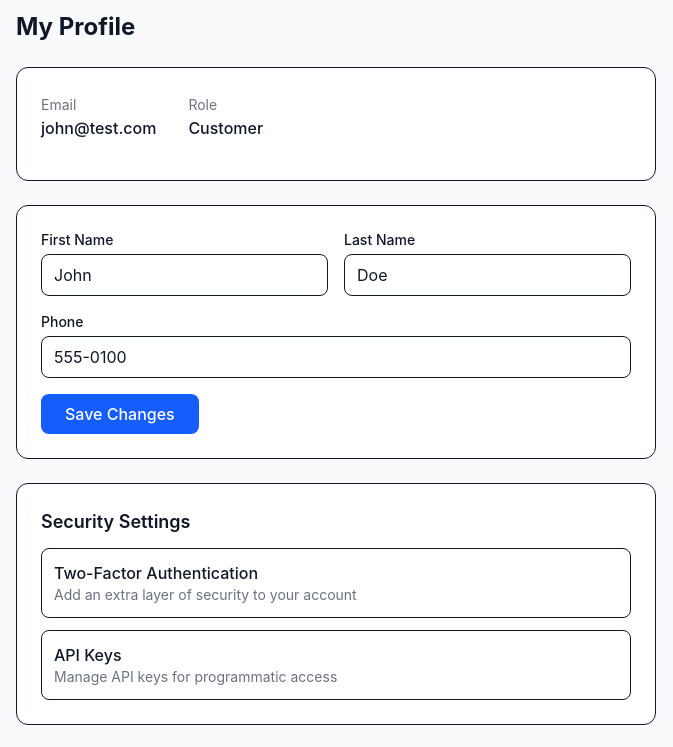
it: ProfilePage › should update profile on submit
Replace the text in the field labelled "First Name" with "Jane" at (184, 275), box [41,254,328,296]
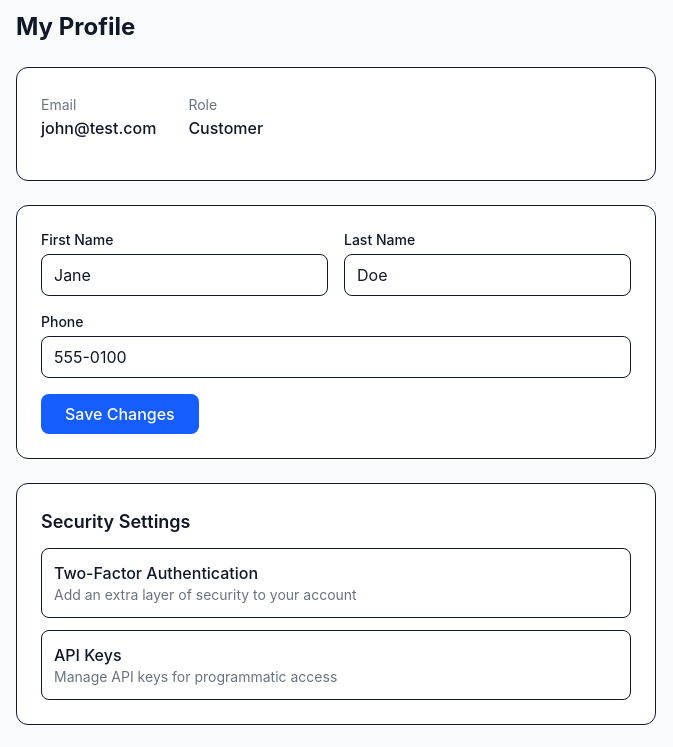
Click the button "Save Changes" at (120, 414), box [41,394,199,434]
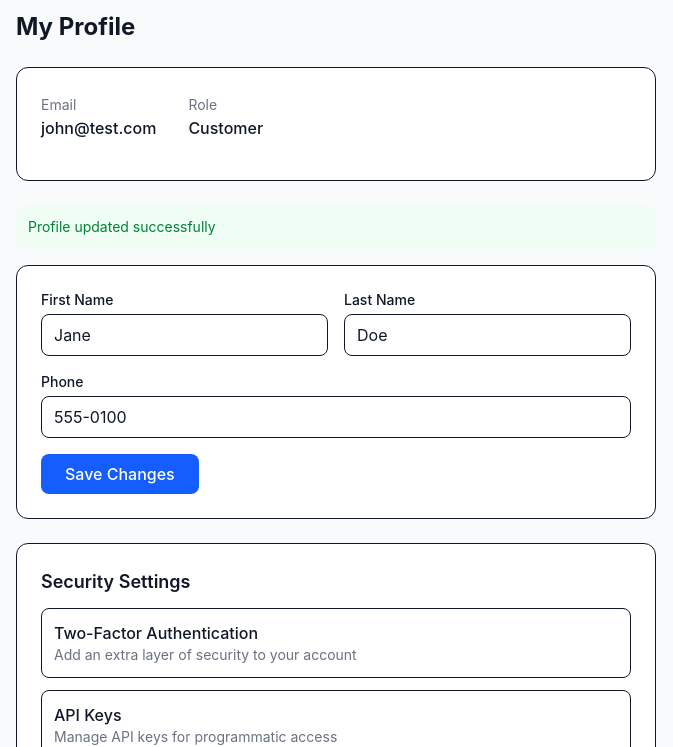
Expected: the message reads "Profile updated successfully", [28,218,216,235]
